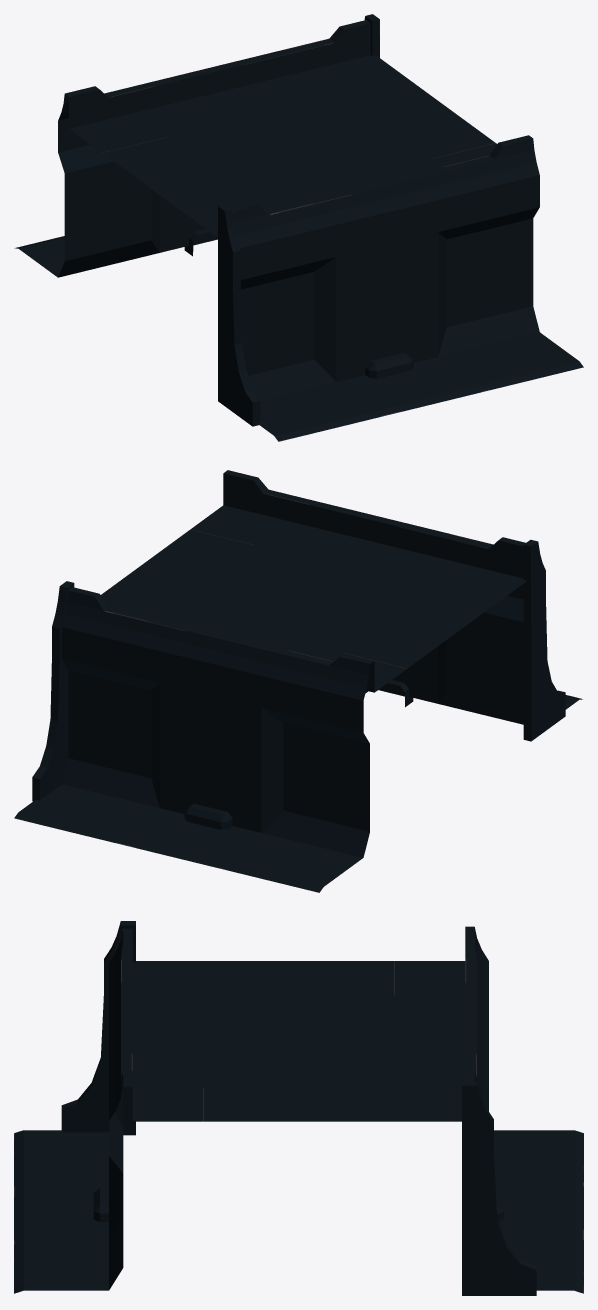
3 renders of one model, top to bottom at view 1: azimuth 30°, elevation 25°; view 2: azimuth 150°, elevation 25°; view 3: azimuth 270°, elevation 25°, orthographic. The views are drawn at different scales.
Visible parts, largest first — view 1: Wall C, Wall C.001, Ground C, Ground C.001; view 2: Wall C.001, Wall C, Ground C, Ground C.001; view 3: Wall C, Wall C.001, Ground C.001, Ground C.
Boxes of the visible parts, box(x1,y1,x2,y2) form: Wall C: box(190, 135, 583, 441); Wall C.001: box(14, 14, 407, 277); Ground C: box(255, 78, 495, 179); Ground C.001: box(102, 115, 342, 217); Wall C.001: box(14, 581, 407, 892); Wall C: box(190, 470, 582, 741); Ground C: box(102, 529, 342, 631); Ground C.001: box(255, 567, 495, 668); Wall C: box(14, 921, 203, 1293); Wall C.001: box(394, 926, 583, 1295); Ground C.001: box(204, 961, 393, 1041); Ground C: box(204, 1041, 393, 1121).
Size of the model in its own units: 410 by 250 by 600.
